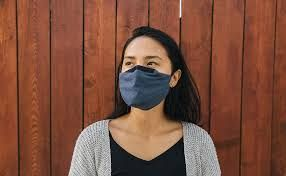with-mask: (112, 33, 182, 112)
